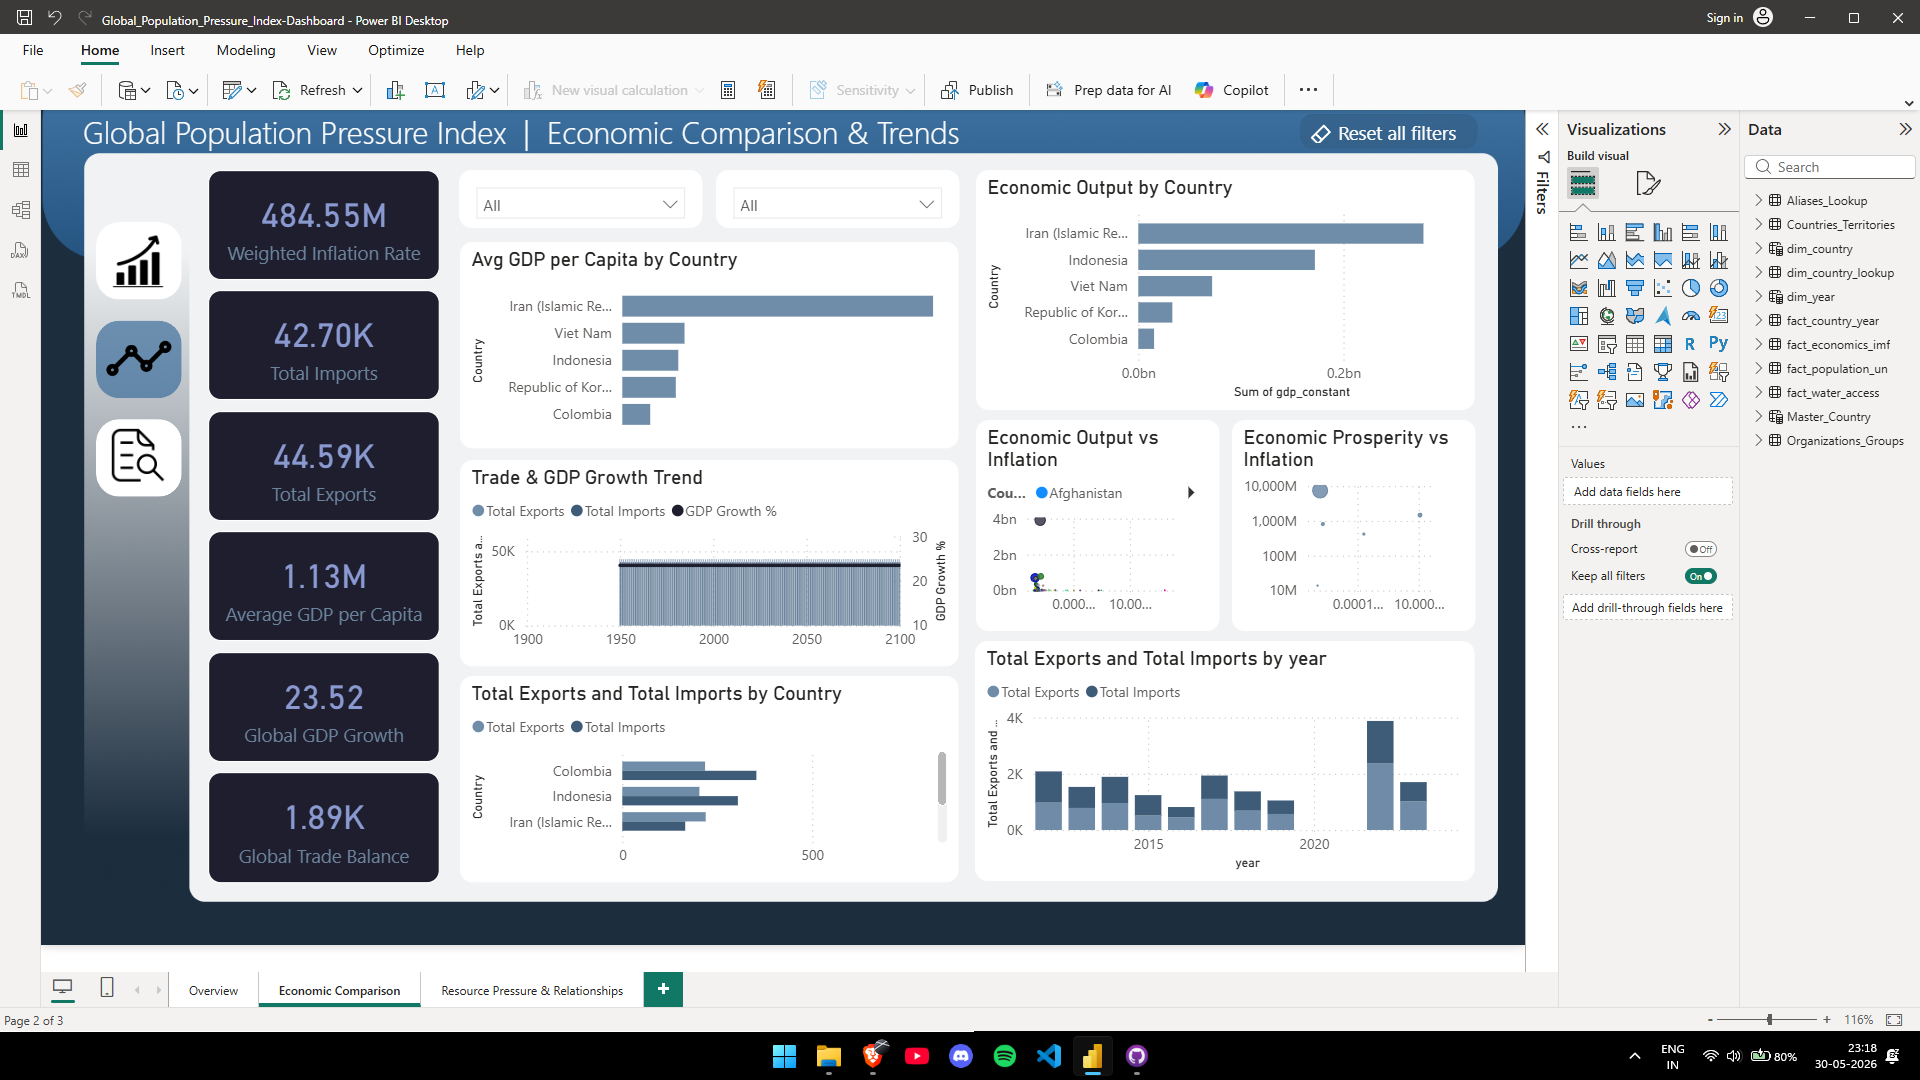

The dashboard page shown, as its layout file describes it:
{"tool":"powerbi","page":{"name":"Economic Comparison","canvas":[1280,720],"ordinal":1},"visuals":[{"type":"pageNavigator","box":[47.4,96.6,74.2,239.8],"z":0},{"type":"textbox","box":[36.2,0,795.3,44.9],"z":1000},{"type":"card","fields":{"Values":["Organizations_Groups.Global GDP Growth"]},"box":[144,467.2,200.1,94.9],"z":2000},{"type":"card","fields":{"Values":["Organizations_Groups.Average GDP per Capita"]},"box":[144,363.3,200,95],"z":3000},{"type":"card","fields":{"Values":["fact_economics_imf.Total Exports"]},"box":[144,259.4,200,95],"z":4000},{"type":"card","fields":{"Values":["fact_economics_imf.Total Imports"]},"box":[144,155.5,200,95],"z":5000},{"type":"card","fields":{"Values":["fact_economics_imf.Weighted Inflation %"]},"box":[144,51.8,200.1,94.9],"z":6000},{"type":"clusteredBarChart","title":"Economic Output by Country","fields":{"Category":["Master_Country.Country","fact_economics_imf.year"],"Y":["Sum(fact_economics_imf.gdp_constant)"]},"box":[806.5,51.8,430.4,207],"z":7000},{"type":"clusteredBarChart","fields":{"Category":["Master_Country.Country","fact_economics_imf.year"],"Y":["fact_economics_imf.Avg GDP per Capita"]},"box":[361.4,113.9,430,177.7],"z":8000},{"type":"clusteredBarChart","fields":{"Category":["Master_Country.Country","fact_economics_imf.year"],"Y":["fact_economics_imf.Total Exports","fact_economics_imf.Total Imports"]},"box":[361.4,488.2,430,177.7],"z":9000},{"type":"slicer","fields":{"Values":["Master_Country.Country"]},"box":[360.5,51.8,210,50],"z":10000},{"type":"image","box":[47.3,180,74.5,68.2],"z":11000},{"type":"image","box":[55.5,107.3,57.3,47.3],"z":12000},{"type":"image","box":[58.2,259.1,51.8,77.3],"z":13000},{"type":"lineStackedColumnComboChart","fields":{"Y":["fact_economics_imf.Total Exports","fact_economics_imf.Total Imports"],"Category":["fact_economics_imf.year"]},"box":[805.6,458,431.3,207],"z":14000},{"type":"scatterChart","title":"Economic Prosperity vs Inflation","fields":{"X":["fact_economics_imf.Weighted Inflation %"],"Y":["Sum(fact_economics_imf.gdp_per_capita_constant)"],"Size":["Sum(fact_economics_imf.gdp_constant)"],"Category":["Countries_Territories.Continent"]},"box":[1027.3,267.4,209.6,182],"z":15000},{"type":"lineClusteredColumnComboChart","title":"Trade & GDP Growth Trend","fields":{"Category":["dim_year.year"],"Y":["fact_economics_imf.Total Exports","fact_economics_imf.Total Imports"],"Y2":["fact_economics_imf.GDP Growth %"]},"box":[361.4,301.9,430,177.7],"z":16000},{"type":"scatterChart","title":"Economic Output vs Inflation","fields":{"X":["fact_economics_imf.Weighted Inflation %"],"Y":["Sum(fact_economics_imf.gdp_per_capita_constant)"],"Size":["Sum(fact_economics_imf.gdp_constant)"],"Category":["Countries_Territories.Continent"],"Series":["Master_Country.Country"]},"box":[806.5,267.4,209.6,182],"z":17000},{"type":"card","fields":{"Values":["Organizations_Groups.Trade Balance"]},"box":[144,571,200.1,95.7],"z":18000},{"type":"actionButton","box":[1086.2,3.3,152.9,30.4],"z":19000},{"type":"slicer","fields":{"Values":["Countries_Territories.Continent"]},"box":[582.2,51.8,209.6,50],"z":20000}]}

Visuals, with their boxes on the page's 1280x720 design canvas (x1, y1, x2, y2). These are canvas units, not pixel positions in the 1920x1080 screenshot, which may show the page scaled, cropped or inside an application window:
pageNavigator: {"x1": 47, "y1": 97, "x2": 122, "y2": 336}
textbox: {"x1": 36, "y1": 0, "x2": 832, "y2": 45}
card - Organizations_Groups.Global GDP Growth: {"x1": 144, "y1": 467, "x2": 344, "y2": 562}
card - Organizations_Groups.Average GDP per Capita: {"x1": 144, "y1": 363, "x2": 344, "y2": 458}
card - fact_economics_imf.Total Exports: {"x1": 144, "y1": 259, "x2": 344, "y2": 354}
card - fact_economics_imf.Total Imports: {"x1": 144, "y1": 156, "x2": 344, "y2": 250}
card - fact_economics_imf.Weighted Inflation %: {"x1": 144, "y1": 52, "x2": 344, "y2": 147}
"Economic Output by Country" clusteredBarChart: {"x1": 806, "y1": 52, "x2": 1237, "y2": 259}
clusteredBarChart - Master_Country.Country x fact_economics_imf.year: {"x1": 361, "y1": 114, "x2": 791, "y2": 292}
clusteredBarChart - Master_Country.Country x fact_economics_imf.year: {"x1": 361, "y1": 488, "x2": 791, "y2": 666}
slicer - Master_Country.Country: {"x1": 360, "y1": 52, "x2": 570, "y2": 102}
image: {"x1": 47, "y1": 180, "x2": 122, "y2": 248}
image: {"x1": 56, "y1": 107, "x2": 113, "y2": 155}
image: {"x1": 58, "y1": 259, "x2": 110, "y2": 336}
lineStackedColumnComboChart - fact_economics_imf.Total Exports x fact_economics_imf.Total Imports: {"x1": 806, "y1": 458, "x2": 1237, "y2": 665}
"Economic Prosperity vs Inflation" scatterChart: {"x1": 1027, "y1": 267, "x2": 1237, "y2": 449}
"Trade & GDP Growth Trend" lineClusteredColumnComboChart: {"x1": 361, "y1": 302, "x2": 791, "y2": 480}
"Economic Output vs Inflation" scatterChart: {"x1": 806, "y1": 267, "x2": 1016, "y2": 449}
card - Organizations_Groups.Trade Balance: {"x1": 144, "y1": 571, "x2": 344, "y2": 667}
actionButton: {"x1": 1086, "y1": 3, "x2": 1239, "y2": 34}
slicer - Countries_Territories.Continent: {"x1": 582, "y1": 52, "x2": 792, "y2": 102}
